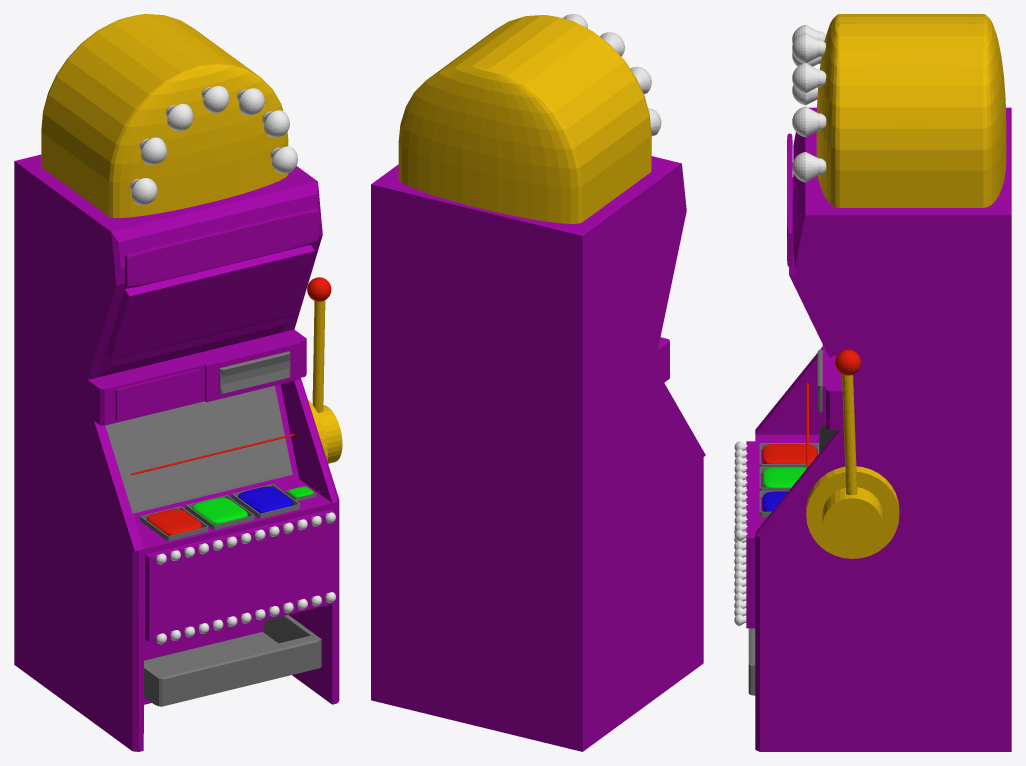
The model's file is slot_machine44444.glb.
3 renders of one model, left to right at view 1: azimuth 30°, elevation 25°; view 2: azimuth 150°, elevation 25°; view 3: azimuth 270°, elevation 25°, orthographic. The views are drawn at different scales.
Parts seen in each view (by area): view 1: cc09d22c-c9c5-46f4-9db0-749766cb54d0; view 2: cc09d22c-c9c5-46f4-9db0-749766cb54d0; view 3: cc09d22c-c9c5-46f4-9db0-749766cb54d0.
Boxes of the visible parts, x1,y1,x2,y2 form: cc09d22c-c9c5-46f4-9db0-749766cb54d0: (14,14,342,751); cc09d22c-c9c5-46f4-9db0-749766cb54d0: (371,14,705,751); cc09d22c-c9c5-46f4-9db0-749766cb54d0: (734,14,1011,751).
Bounding box in the file's own units: 0.1979 × 0.5 × 0.1865.
